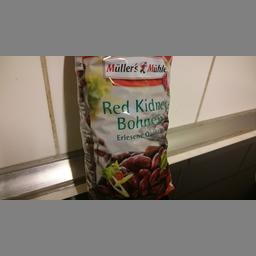beans: (73, 55, 176, 198)
